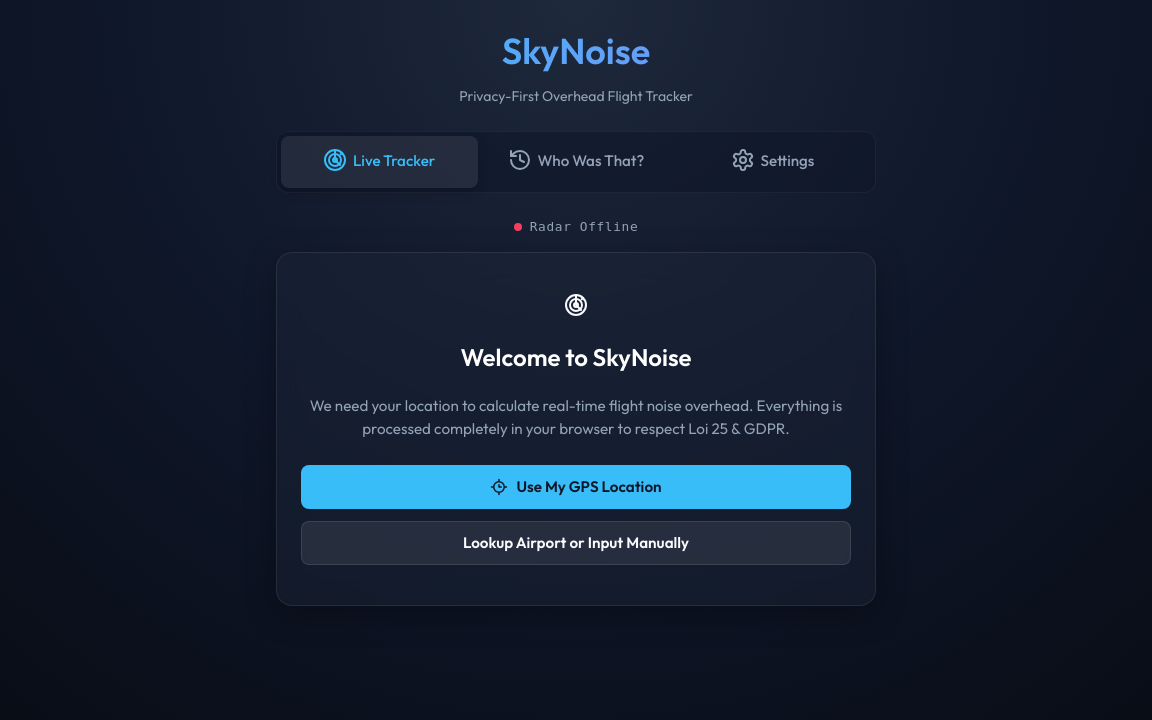
Test: App › renders a persisted history entry
Step 1. Click the tab "Who Was That?" → coordinates (576, 162), box [478, 136, 674, 188]
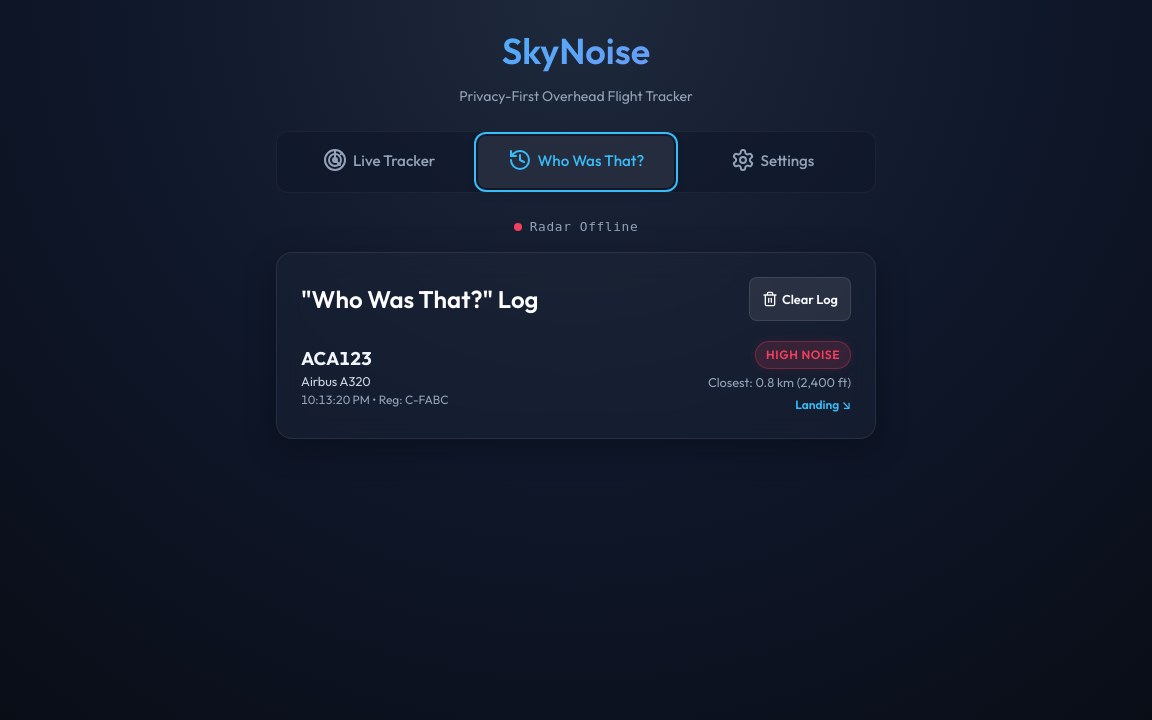
Expected: the text "ACA123" is shown, [301, 347, 372, 370]
